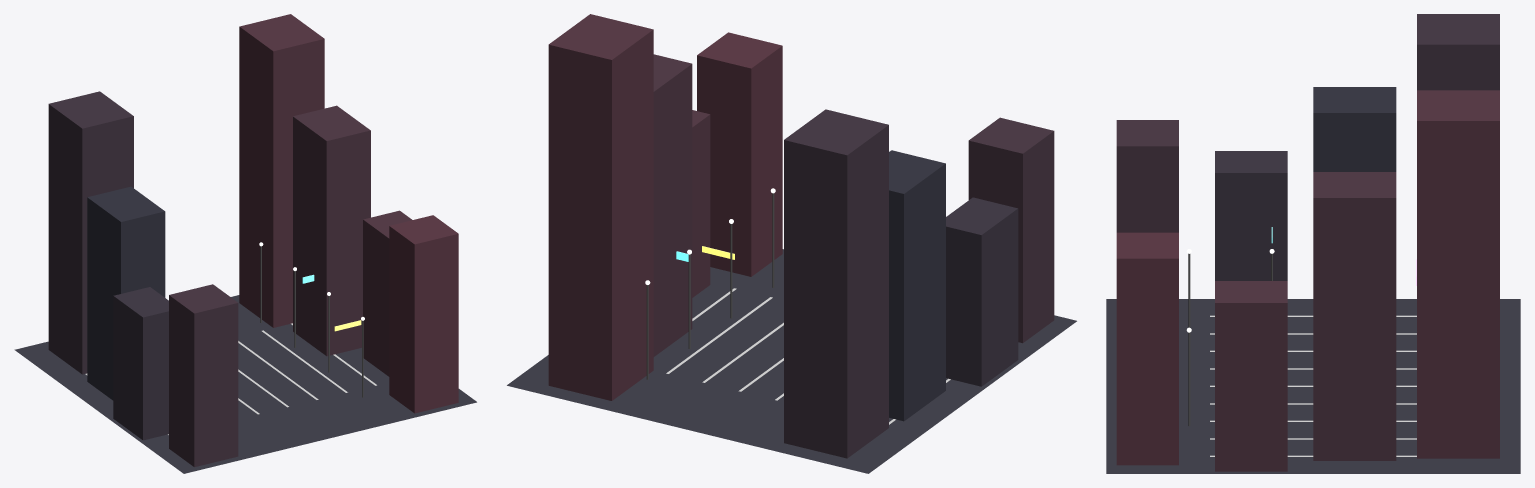
The model's file is cyberpunk_street_v1.glb.
3 renders of one model, left to right at view 1: azimuth 30°, elevation 25°; view 2: azimuth 150°, elevation 25°; view 3: azimuth 270°, elevation 25°, orthographic. The views are drawn at different scales.
Visible parts, largest first — view 1: Ground, Building_R_6, Building_R_4, Building_L_2, Building_R_7, Building_L_3, Building_L_0, Building_L_1, Building_R_5; view 2: Building_R_6, Building_L_2, Ground, Building_R_7, Building_L_0, Building_L_1, Building_L_3, Building_R_4, Building_R_5; view 3: Building_R_6, Building_R_4, Ground, Building_R_7, Building_R_5, Building_L_1, Building_L_0, Building_L_3, Building_L_2.
Boxes of the visible parts, left/top/right/bottom form: Ground: left=14, top=295, right=476, bottom=473; Building_R_6: left=239, top=14, right=324, bottom=327; Building_R_4: left=293, top=105, right=370, bottom=356; Building_L_2: left=48, top=91, right=133, bottom=374; Building_R_7: left=389, top=215, right=458, bottom=413; Building_L_3: left=169, top=284, right=238, bottom=467; Building_L_0: left=87, top=186, right=165, bottom=400; Building_L_1: left=113, top=287, right=168, bottom=440; Building_R_5: left=363, top=210, right=412, bottom=376; Building_R_6: left=548, top=14, right=653, bottom=400; Building_L_2: left=784, top=109, right=888, bottom=458; Ground: left=507, top=249, right=1076, bottom=473; Building_R_7: left=697, top=32, right=782, bottom=276; Building_L_0: left=889, top=150, right=945, bottom=421; Building_L_1: left=946, top=197, right=1018, bottom=386; Building_L_3: left=968, top=117, right=1054, bottom=343; Building_R_4: left=653, top=54, right=692, bottom=356; Building_R_5: left=692, top=110, right=710, bottom=297; Building_R_6: left=1417, top=90, right=1499, bottom=458; Building_R_4: left=1313, top=172, right=1396, bottom=460; Ground: left=1106, top=299, right=1520, bottom=473; Building_R_7: left=1116, top=232, right=1178, bottom=465; Building_R_5: left=1215, top=281, right=1287, bottom=471; Building_L_1: left=1215, top=151, right=1287, bottom=280; Building_L_0: left=1313, top=87, right=1396, bottom=171; Building_L_3: left=1116, top=120, right=1178, bottom=232; Building_L_2: left=1417, top=14, right=1499, bottom=90.
Size of the model in its own units: 20 by 18 by 20.
